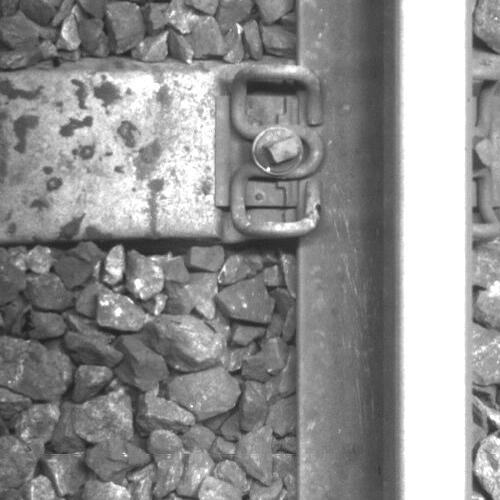rail: (396, 1, 472, 500)
tie_concr: (1, 69, 292, 235)
vossloh: (216, 61, 324, 237)
